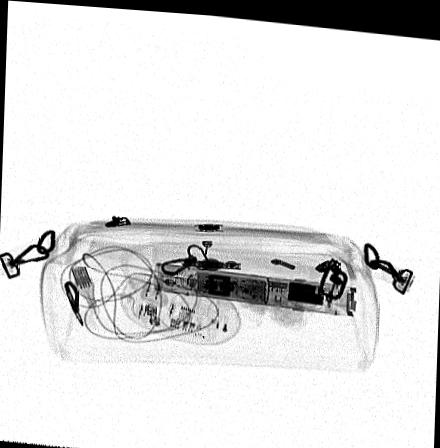Baton: (152, 258, 358, 312)
